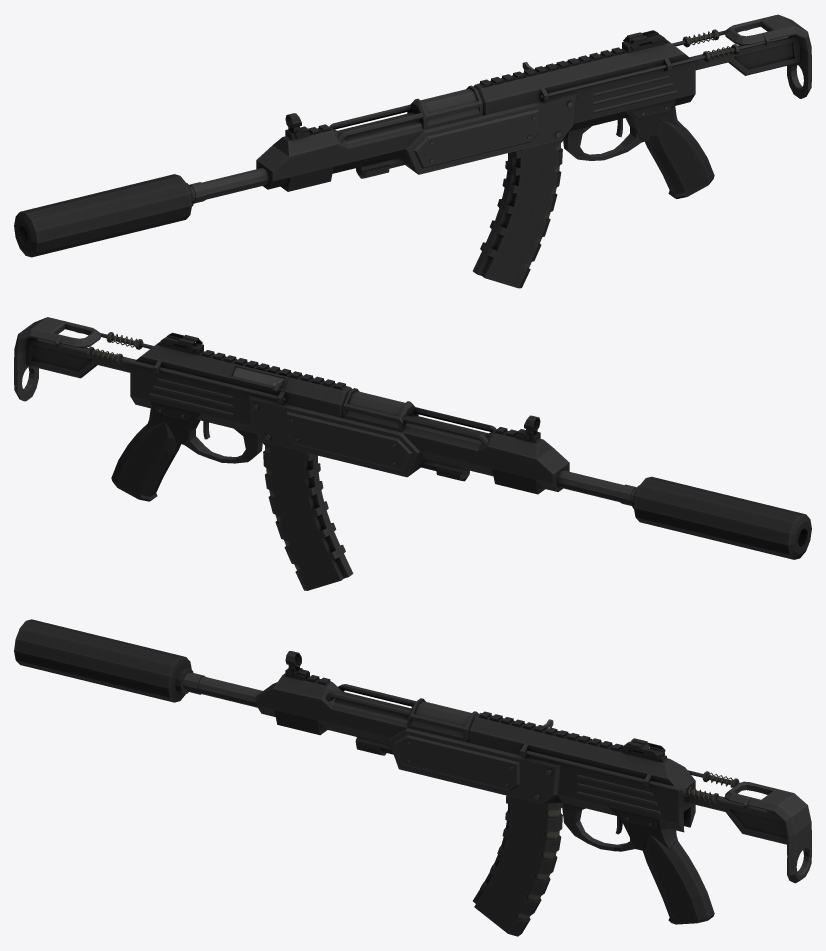
The model's file is Rifle_2.fbx.
The picture shows the model from 3 angles, top to bottom: view 1: azimuth 30°, elevation 25°; view 2: azimuth 150°, elevation 25°; view 3: azimuth 330°, elevation 25°; orthographic projection.
Parts seen in each view (by area): view 1: rifle_2; view 2: rifle_2; view 3: rifle_2.
Part boxes in pixels (x1,y1,x2,y2): rifle_2: (14,14,811,288); rifle_2: (14,317,811,590); rifle_2: (14,619,811,936).
Bounding box in the file's own units: 4270 × 1191 × 254.
